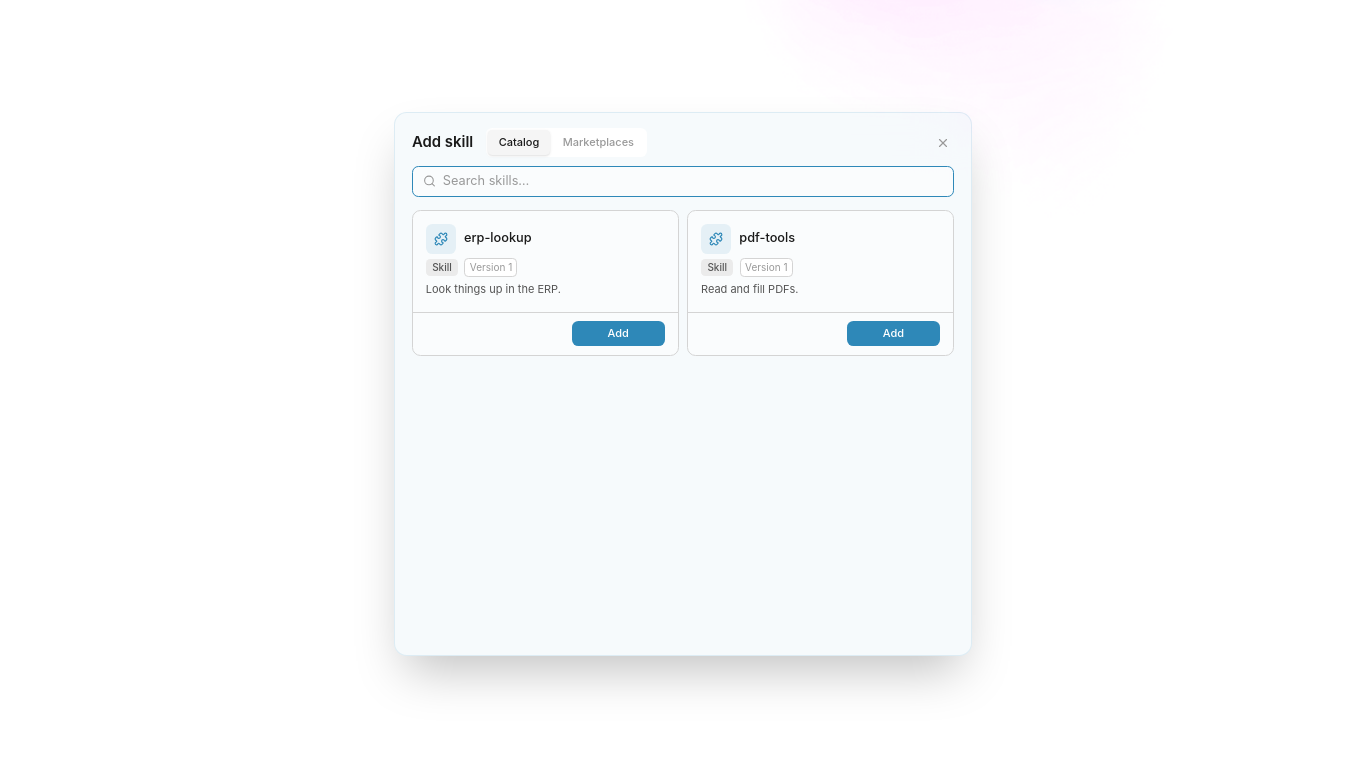
Test: SkillAddModal › shows a refusal under the card it was for
The image size is (1366, 768).
expect the text "erp-lookup" is shown: met, box 464,230 -> 532,245
Click the button with aria-label "Add erp-lookup": [618, 334] box 572,321 -> 665,346
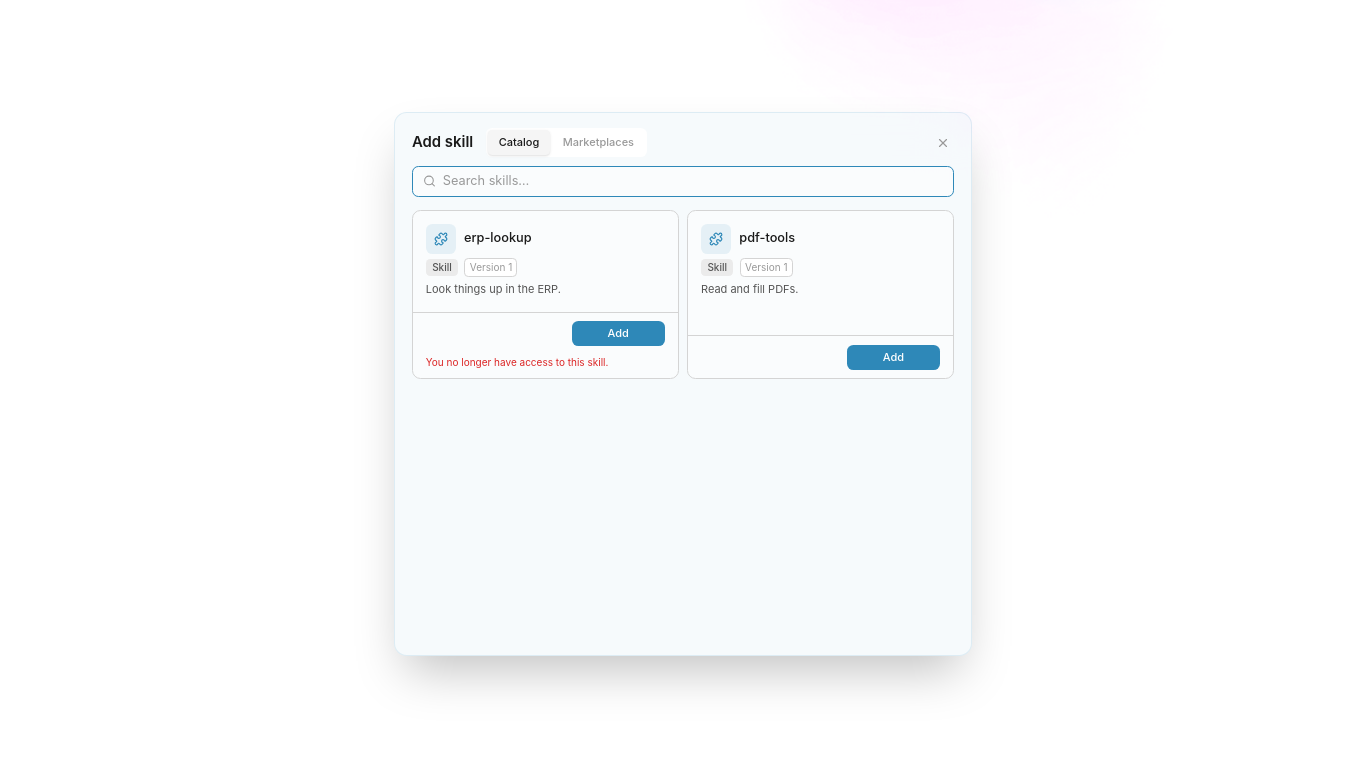
expect the message reads "You no longer have access to this skill.": met, box 426,356 -> 608,368
